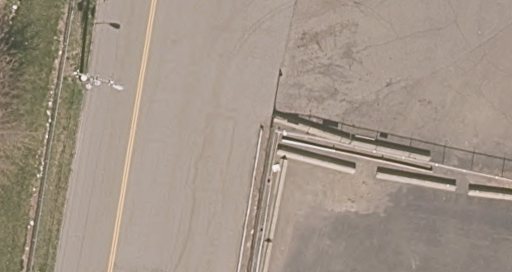DT: (72, 70, 111, 89)
